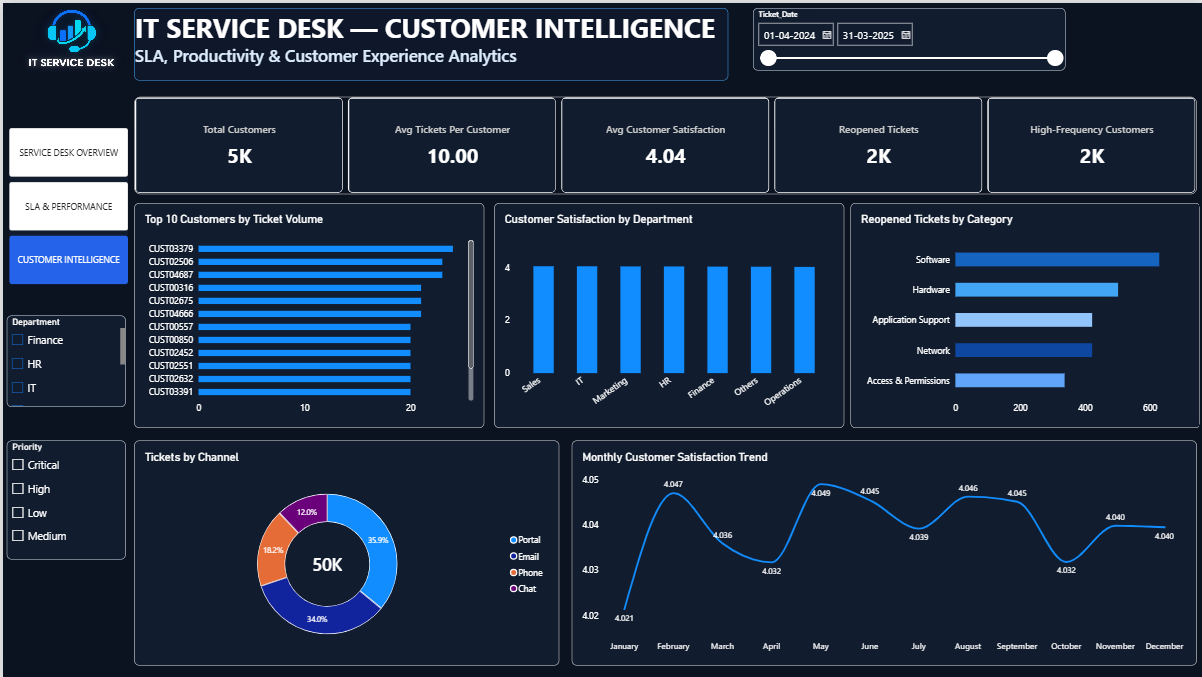

The page's visual inventory and layout, read from the dashboard file:
{"tool":"powerbi","page":{"name":"CUSTOMER INTELLIGENCE","canvas":[1920,1080],"ordinal":2},"visuals":[{"type":"cardVisual","fields":{"Data":["Tickets.Total Customers","Tickets.Avg Tickets Per Customer","Tickets.Avg Customer Satisfaction","Tickets.Reopened Tickets","Tickets.Repeat Customers"]},"box":[210,150,1700,155.6],"z":0},{"type":"clusteredBarChart","title":"Top 10 Customers by Ticket Volume","fields":{"Category":["Tickets.Customer_ID"],"Y":["Tickets.Total Tickets"]},"box":[210,320,560,360],"z":1000},{"type":"clusteredColumnChart","title":"Customer Satisfaction by Department","fields":{"Category":["Tickets.Department"],"Y":["Tickets.Avg Customer Satisfaction"]},"box":[785.6,320,560,360],"z":2000},{"type":"clusteredBarChart","title":"Reopened Tickets by Category","fields":{"Category":["Tickets.Category"],"Y":["Tickets.Reopened Tickets"]},"box":[1355,320,560,360],"z":3000},{"type":"donutChart","title":"Tickets by Channel","fields":{"Category":["Tickets.Channel"],"Y":["Tickets.Total Tickets"]},"box":[210,700,680,360],"z":4000},{"type":"lineChart","title":"Monthly Customer Satisfaction Trend","fields":{"Category":["Tickets.Ticket_Date.Variation.Date Hierarchy.Month"],"Y":["Tickets.Avg Customer Satisfaction"]},"box":[910,700,1000,360],"z":5000},{"type":"slicer","fields":{"Values":["Tickets.Ticket_Date"]},"box":[1200,7,500,100],"z":8000},{"type":"slicer","fields":{"Values":["Tickets.Department"]},"box":[5.7,499.1,190,146.1],"z":9000},{"type":"slicer","fields":{"Values":["Tickets.Priority"]},"box":[5.7,700.2,190,190],"z":10000},{"type":"textbox","box":[210,7.6,950,115.8],"z":11000},{"type":"pageNavigator","box":[10,200,190,250],"z":11001},{"type":"image","box":[10,10,200,100],"z":11002}]}

Visuals, with their boxes in screenshot pixels (x1, y1, x2, y2), scaled from the page's 1920x1080 canvas onto the 1202x677 screenshot:
cardVisual - Tickets.Total Customers x Tickets.Avg Tickets Per Customer: box=[131, 94, 1196, 192]
"Top 10 Customers by Ticket Volume" clusteredBarChart: box=[131, 201, 482, 426]
"Customer Satisfaction by Department" clusteredColumnChart: box=[492, 201, 842, 426]
"Reopened Tickets by Category" clusteredBarChart: box=[848, 201, 1199, 426]
"Tickets by Channel" donutChart: box=[131, 439, 557, 664]
"Monthly Customer Satisfaction Trend" lineChart: box=[570, 439, 1196, 664]
slicer - Tickets.Ticket_Date: box=[751, 4, 1064, 67]
slicer - Tickets.Department: box=[4, 313, 123, 404]
slicer - Tickets.Priority: box=[4, 439, 123, 558]
textbox: box=[131, 5, 726, 77]
pageNavigator: box=[6, 125, 125, 282]
image: box=[6, 6, 131, 69]
